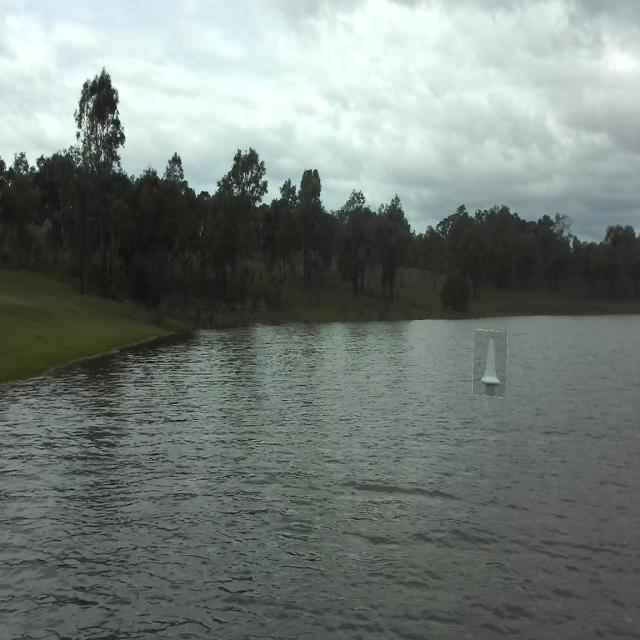White_Buoy: (472, 325, 505, 396)
